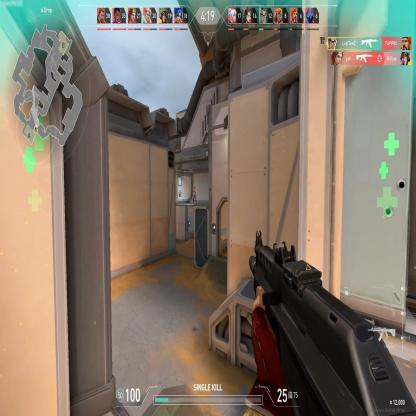enemy: (192, 186, 197, 206)
